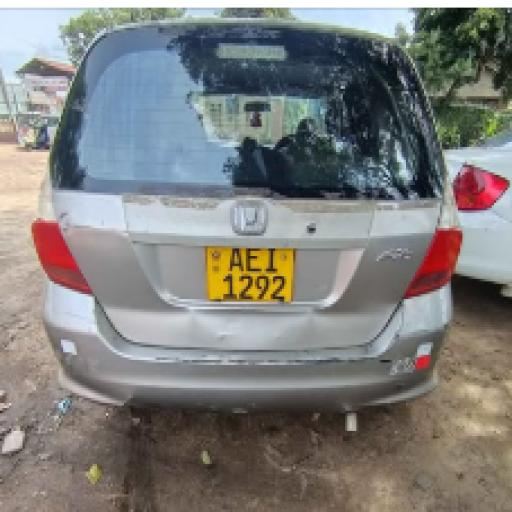number-plates: (206, 245, 292, 305)
